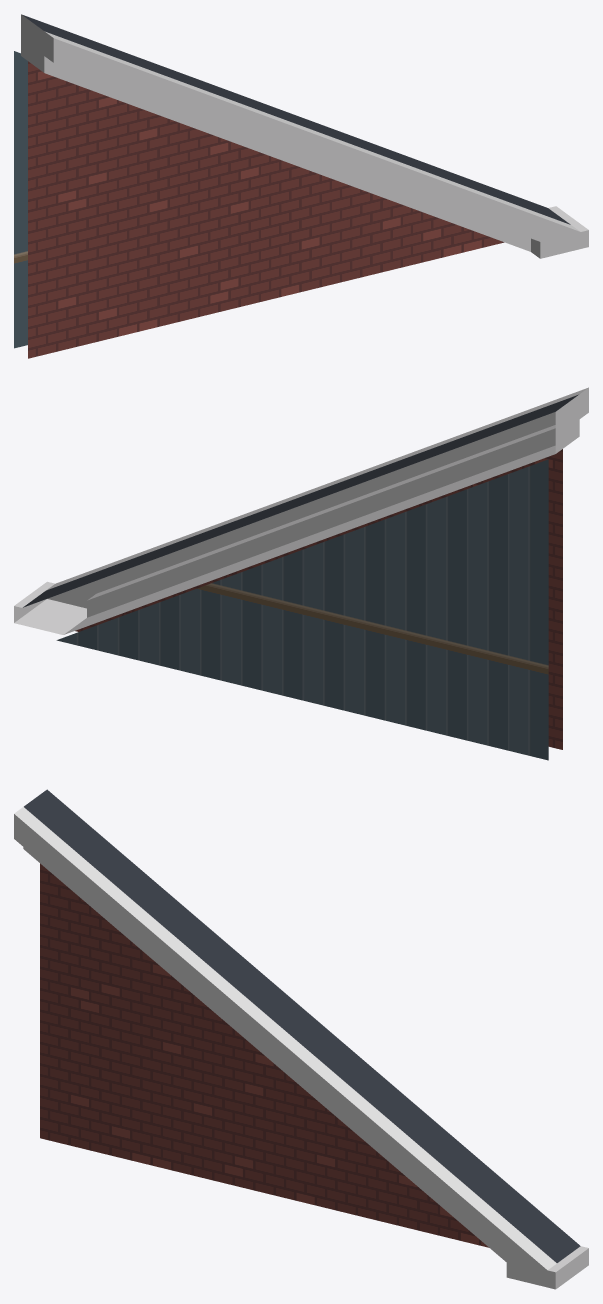
The model's file is SM_roof_03_ending.glb.
3 views of the same model, one above another, from view 1: azimuth 30°, elevation 25°; view 2: azimuth 150°, elevation 25°; view 3: azimuth 330°, elevation 25° (orthographic).
Visible parts, largest first — view 1: SM_roof_03_ending; view 2: SM_roof_03_ending; view 3: SM_roof_03_ending.
Part boxes in pixels (box(x1,y1,x2,y2)): SM_roof_03_ending: box(14, 14, 588, 358); SM_roof_03_ending: box(14, 387, 588, 760); SM_roof_03_ending: box(14, 789, 588, 1289).
Size of the model in its own units: 6.6 by 4 by 0.85.
Materials: 3 (3 with a texture image).
